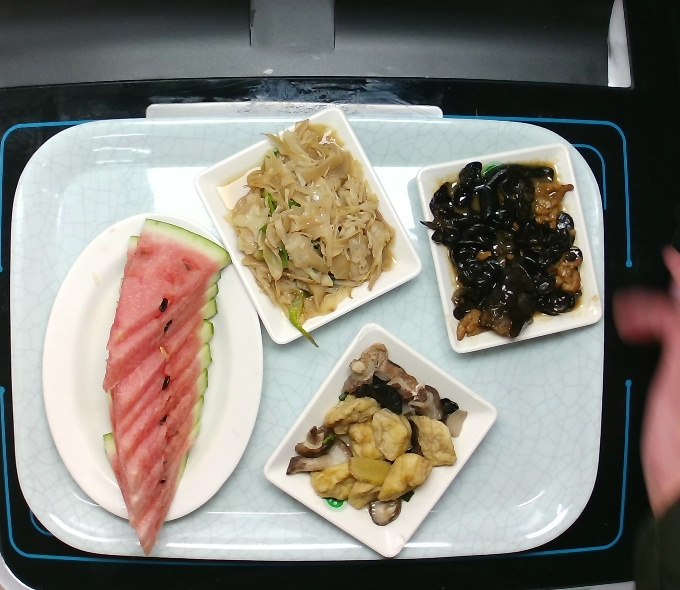wcq-LuSun: (229, 123, 396, 332)
wcq-MuErChaoRou: (422, 155, 584, 345)
wcq-XiGua: (93, 213, 232, 565)
wcq-YouPaoPaiGu: (283, 342, 470, 526)
